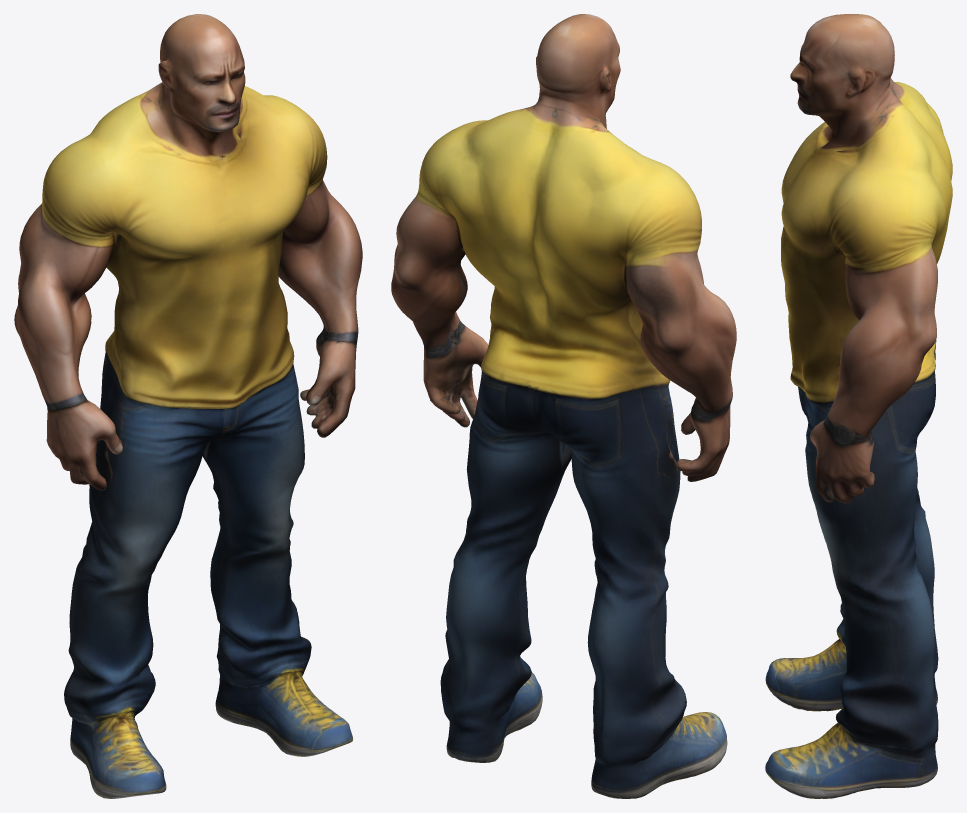
Rendered from _realistic_Dwayne_Jo_0403181302_refine.fbx.
The picture shows the model from 3 angles, left to right: view 1: azimuth 30°, elevation 25°; view 2: azimuth 150°, elevation 25°; view 3: azimuth 270°, elevation 25°; orthographic projection.
Visible parts, largest first — view 1: Mesh_0; view 2: Mesh_0; view 3: Mesh_0.
Boxes of the visible parts, bbox=[...] form: Mesh_0: bbox=[14, 14, 362, 798]; Mesh_0: bbox=[391, 14, 736, 798]; Mesh_0: bbox=[765, 14, 952, 798].
Bounding box in the file's own units: 94.53 × 200 × 46.81.
1 material, 1 textured.
